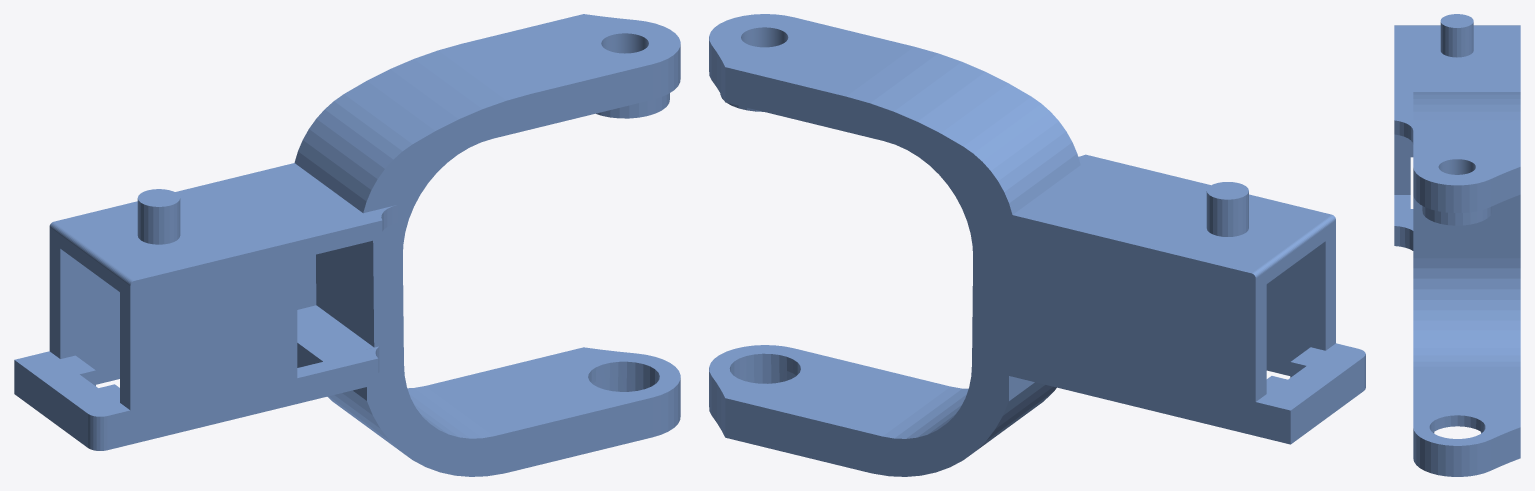
File: shell0_6.gltf
3 views of the same model, side by side, from view 1: azimuth 30°, elevation 25°; view 2: azimuth 150°, elevation 25°; view 3: azimuth 270°, elevation 25° (orthographic). The views are drawn at different scales.
Parts seen in each view (by area): view 1: mesh4737, mesh4556, mesh4747, mesh4707, mesh4471, mesh4721, mesh4588, mesh4728, mesh4743, mesh4719, mesh4738, mesh4492 (+14 smaller); view 2: mesh4734, mesh4729, mesh4747, mesh4707, mesh4471, mesh4722, mesh4728, mesh4743, mesh4738, mesh4492, mesh4491, mesh4490 (+11 smaller); view 3: mesh4747, mesh4707, mesh4471, mesh4543, mesh4546, mesh4544, mesh4545, mesh4547, mesh4548, mesh4549, mesh4550, mesh4488 (+38 smaller).
Part boxes in pixels (x1,y1,x2,y2): mesh4737: (107, 220, 382, 450); mesh4556: (363, 64, 652, 476); mesh4747: (54, 163, 395, 280); mesh4707: (426, 347, 680, 435); mesh4471: (462, 14, 680, 93); mesh4721: (60, 249, 316, 384); mesh4588: (316, 240, 374, 346); mesh4728: (49, 227, 130, 409); mesh4743: (14, 351, 129, 416); mesh4719: (297, 308, 378, 377); mesh4738: (14, 360, 87, 447); mesh4492: (344, 81, 434, 143); mesh4734: (725, 67, 1255, 476); mesh4729: (1015, 233, 1290, 444); mesh4747: (1013, 154, 1331, 273); mesh4707: (709, 345, 950, 436); mesh4471: (709, 14, 913, 96); mesh4722: (1266, 241, 1325, 375); mesh4728: (1255, 220, 1335, 401); mesh4743: (1256, 343, 1365, 410); mesh4738: (1290, 357, 1363, 444); mesh4492: (941, 83, 1031, 146); mesh4491: (917, 72, 1008, 133); mesh4490: (894, 62, 985, 121); mesh4747: (1394, 25, 1520, 129); mesh4707: (1413, 366, 1520, 445); mesh4471: (1413, 120, 1520, 185); mesh4543: (1413, 194, 1520, 258); mesh4546: (1413, 278, 1520, 289); mesh4544: (1413, 258, 1520, 268); mesh4545: (1413, 268, 1520, 278); mesh4547: (1413, 289, 1520, 299); mesh4548: (1413, 300, 1520, 310); mesh4549: (1413, 310, 1520, 320); mesh4550: (1413, 320, 1520, 330); mesh4488: (1413, 111, 1520, 120).
Size of the model in its own units: 0.0755 by 0.0436 by 0.0171.
